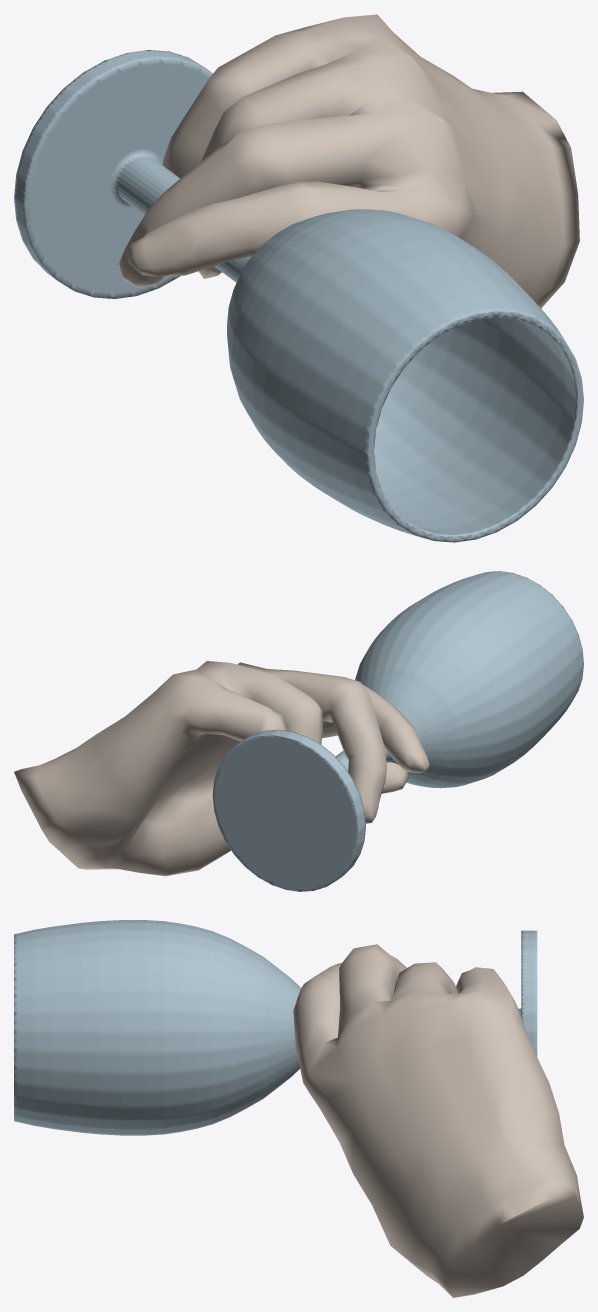
File: pred_11.glb
3 renders of one model, top to bottom at view 1: azimuth 30°, elevation 25°; view 2: azimuth 150°, elevation 25°; view 3: azimuth 270°, elevation 25°, orthographic. The views are drawn at different scales.
Size of the model in its own units: 0.1544 by 0.0908 by 0.1873.
